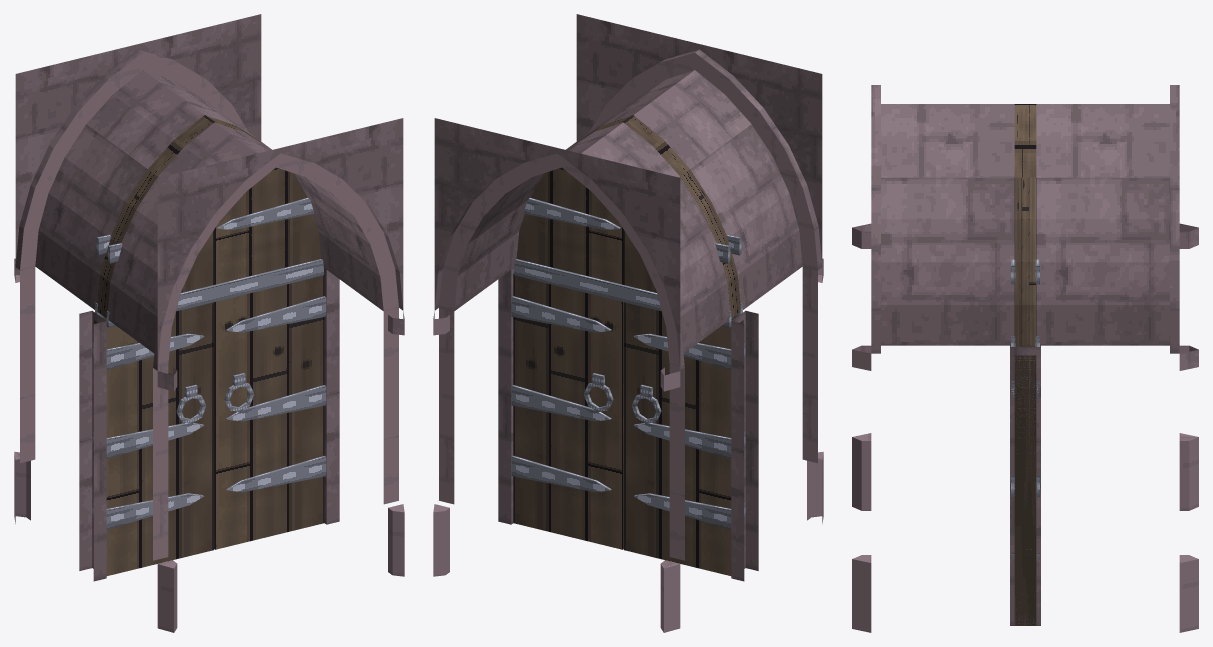
The model's file is door_normal_b.glb.
3 renders of one model, left to right at view 1: azimuth 30°, elevation 25°; view 2: azimuth 150°, elevation 25°; view 3: azimuth 270°, elevation 25°, orthographic. The views are drawn at different scales.
Visible parts, largest first — view 1: portal_front, portal_back, leaf_a, leaf_b, portal; view 2: portal_back, portal_front, leaf_a, leaf_b, portal; view 3: portal_back, portal_front, leaf_a, portal.
Part boxes in pixels (box(x1,y1,x2,y2)): portal_front: box(93, 118, 404, 632); portal_back: box(14, 14, 261, 570); leaf_a: box(214, 273, 326, 549); leaf_b: box(92, 302, 213, 575); portal: box(95, 115, 323, 327); portal_back: box(433, 118, 744, 632); portal_front: box(576, 14, 823, 570); leaf_a: box(511, 273, 623, 549); leaf_b: box(624, 302, 745, 575); portal: box(514, 115, 742, 327); portal_back: box(1025, 85, 1198, 632); portal_front: box(852, 85, 1025, 632); leaf_a: box(1011, 345, 1039, 625); portal: box(1011, 104, 1039, 346).
Bounding box in the file's own units: 2 × 3.5 × 2.25.
Materials: 1 (1 with a texture image).
